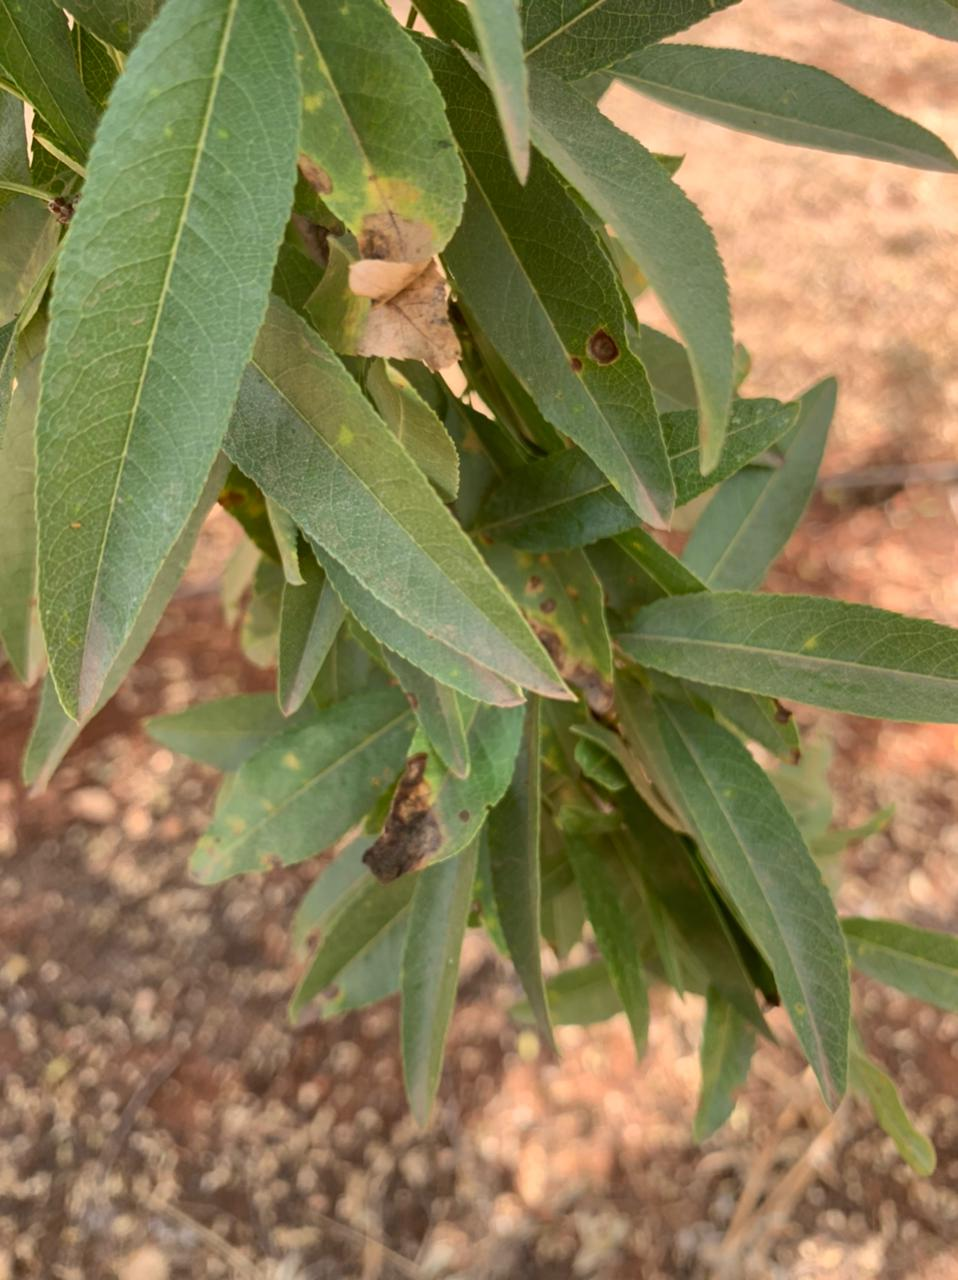coryneum: (408, 29, 677, 534), (432, 376, 623, 723)
